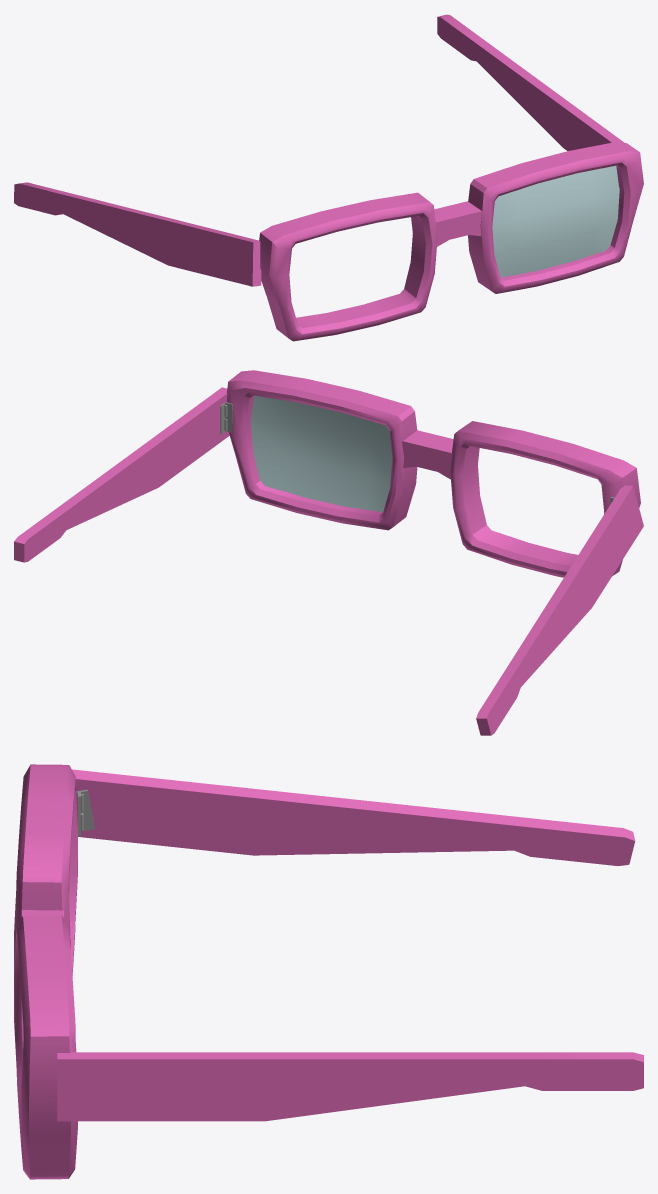
Rendered from brokenGlasses.fbx.
The picture shows the model from 3 angles, top to bottom: view 1: azimuth 30°, elevation 25°; view 2: azimuth 150°, elevation 25°; view 3: azimuth 270°, elevation 25°; orthographic projection. The views are drawn at different scales.
Parts seen in each view (by area): view 1: Broken Glasses; view 2: Broken Glasses; view 3: Broken Glasses.
Part boxes in pixels (box(x1,y1,x2,y2)): Broken Glasses: box(14, 14, 643, 341); Broken Glasses: box(14, 370, 643, 735); Broken Glasses: box(14, 764, 643, 1179).
Bounding box in the file's own units: 477 × 119 × 391.
